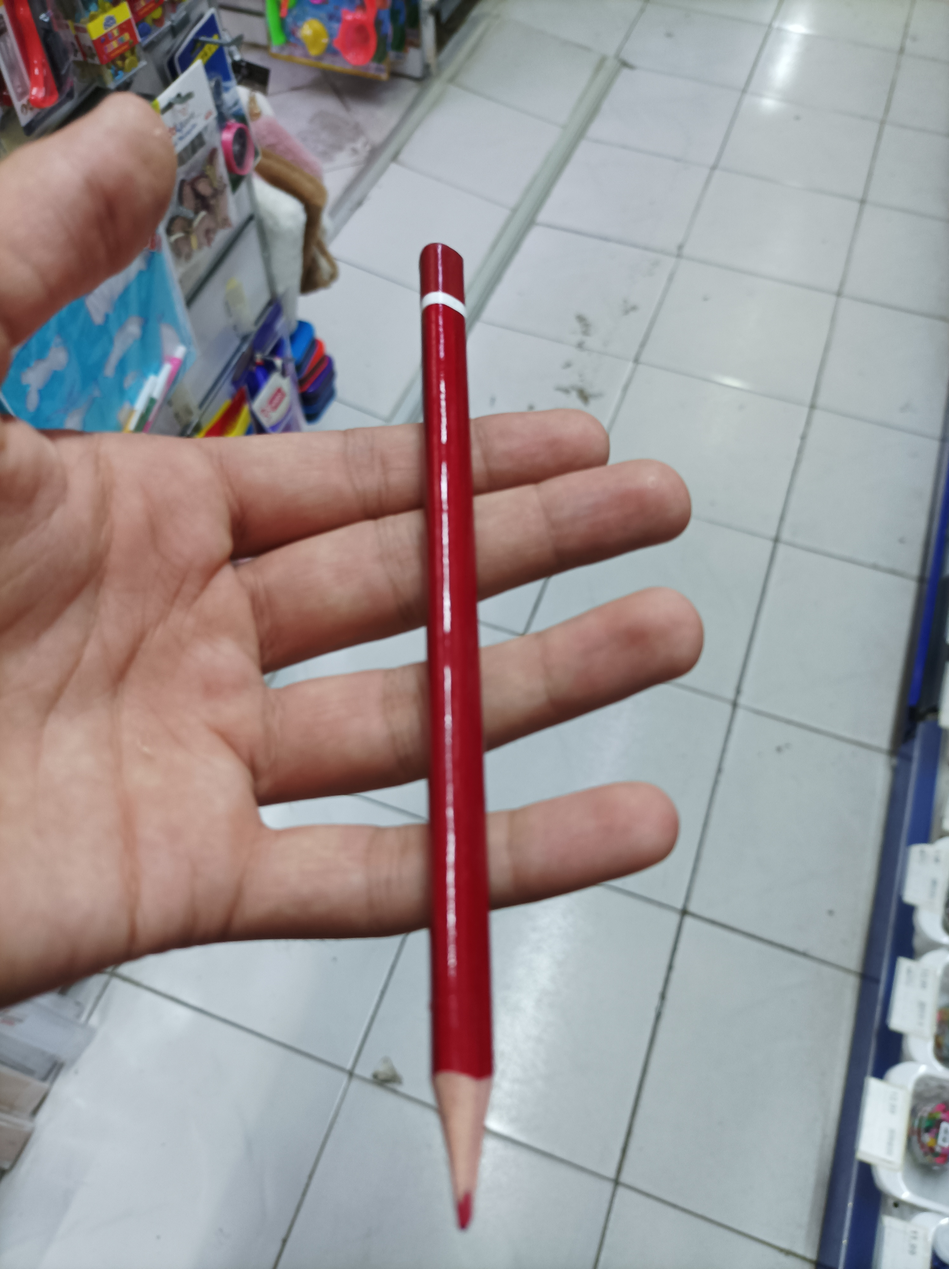plastic: (417, 251, 505, 1218)
